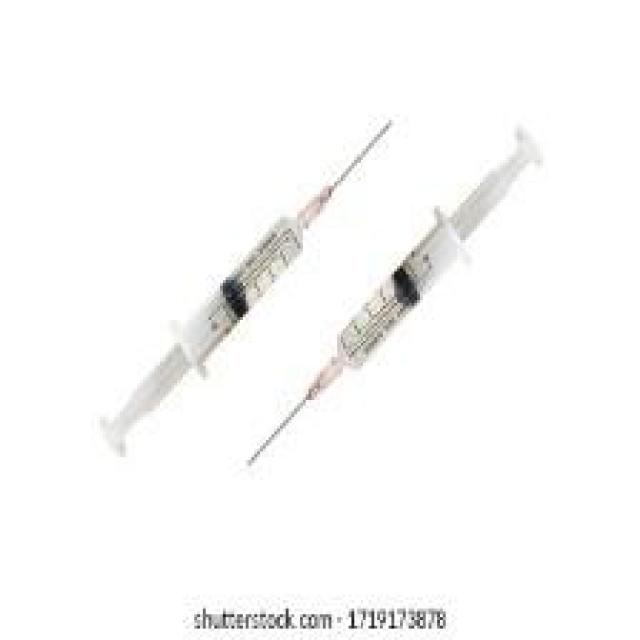syringe: (95, 82, 532, 464)
